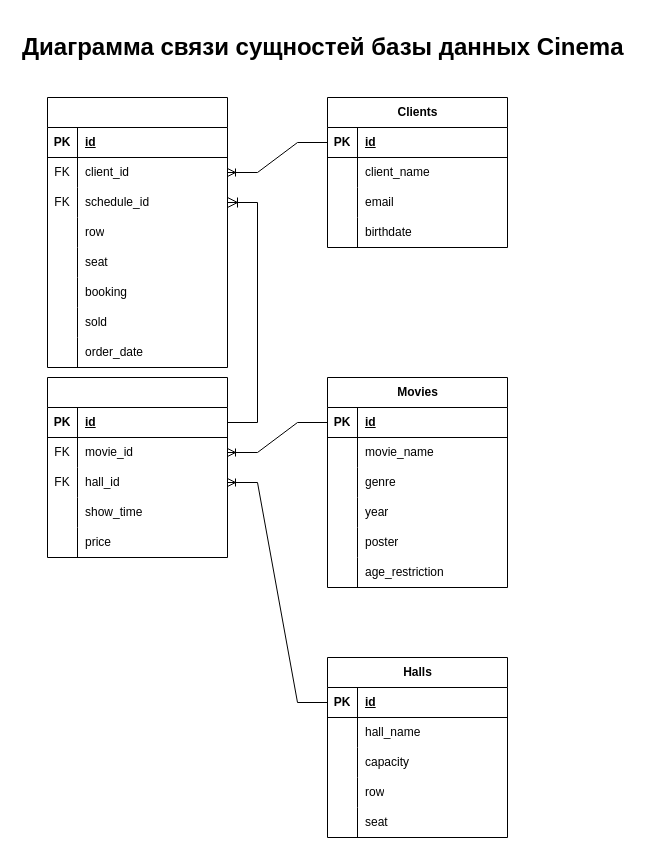
Image size: 654x855. Some labels were removed from this diagram. The box of each missing label's shape, as (x1, y1, x2, y2) in pixels:
Orders: (46, 96, 228, 368)
Schedule: (46, 376, 228, 558)
